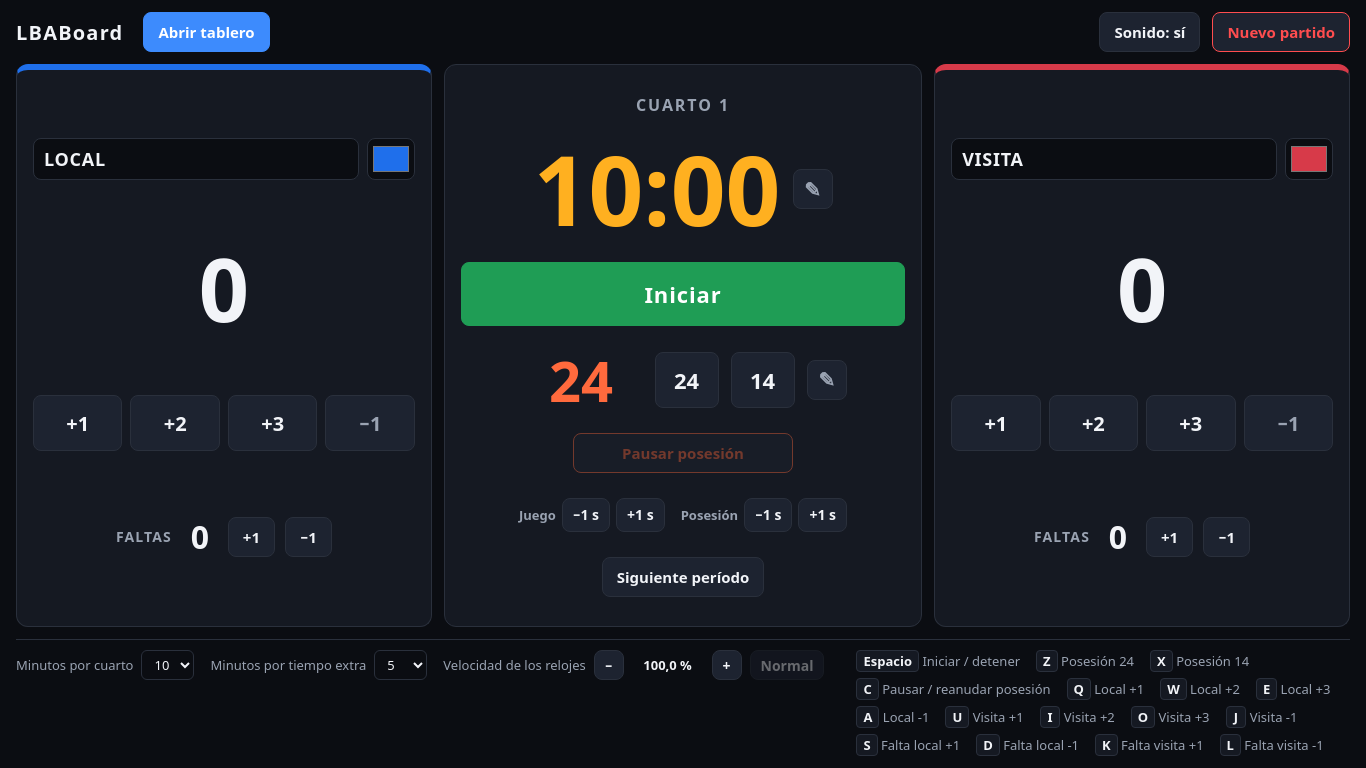
Test: Control › explains the format of a time it cannot read, and Escape cancels
The width and height of the screenshot is (1366, 768).
Click the button named "Editar tiempo de juego" at point(812, 189), box x1=792 y1=169 x2=832 y2=209
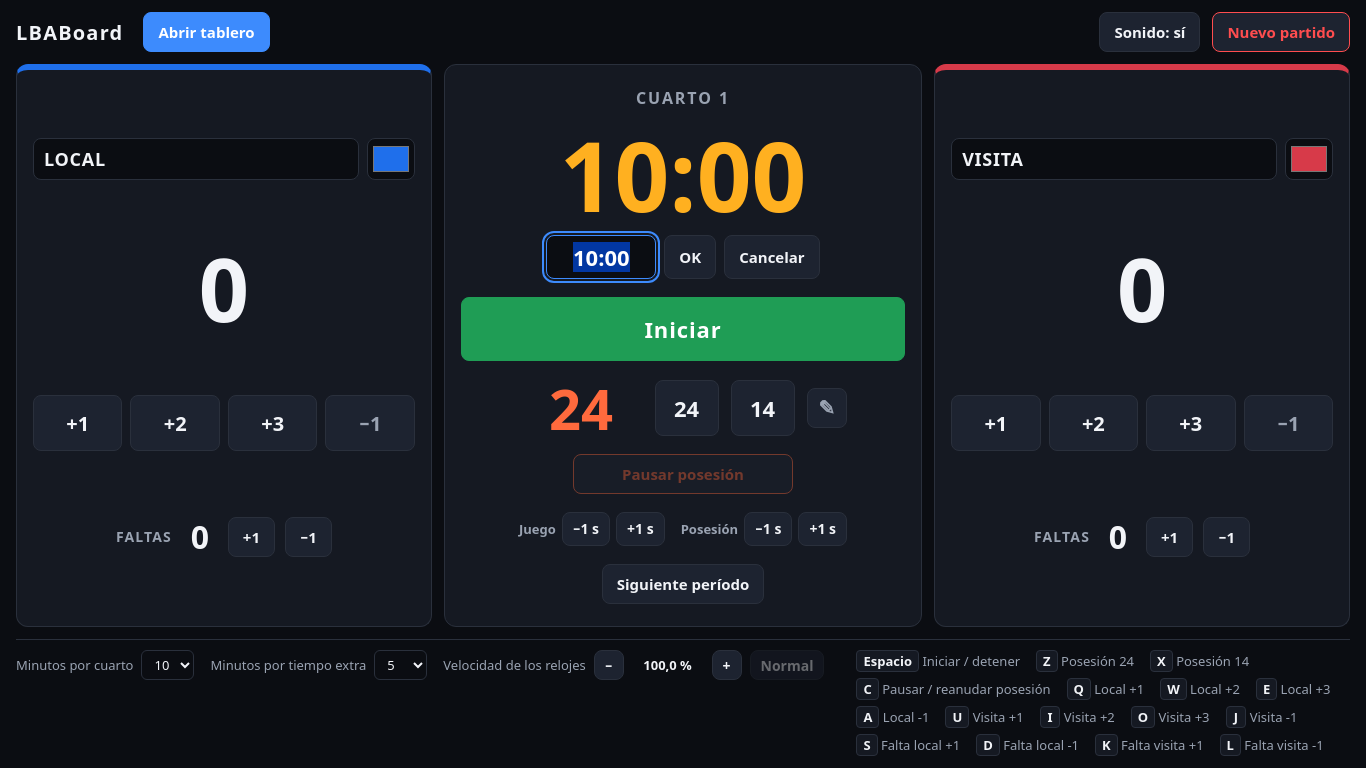
Replace the text in the field named "Valor de tiempo de juego" with "4:75" at point(601, 257), box x1=546 y1=235 x2=656 y2=279
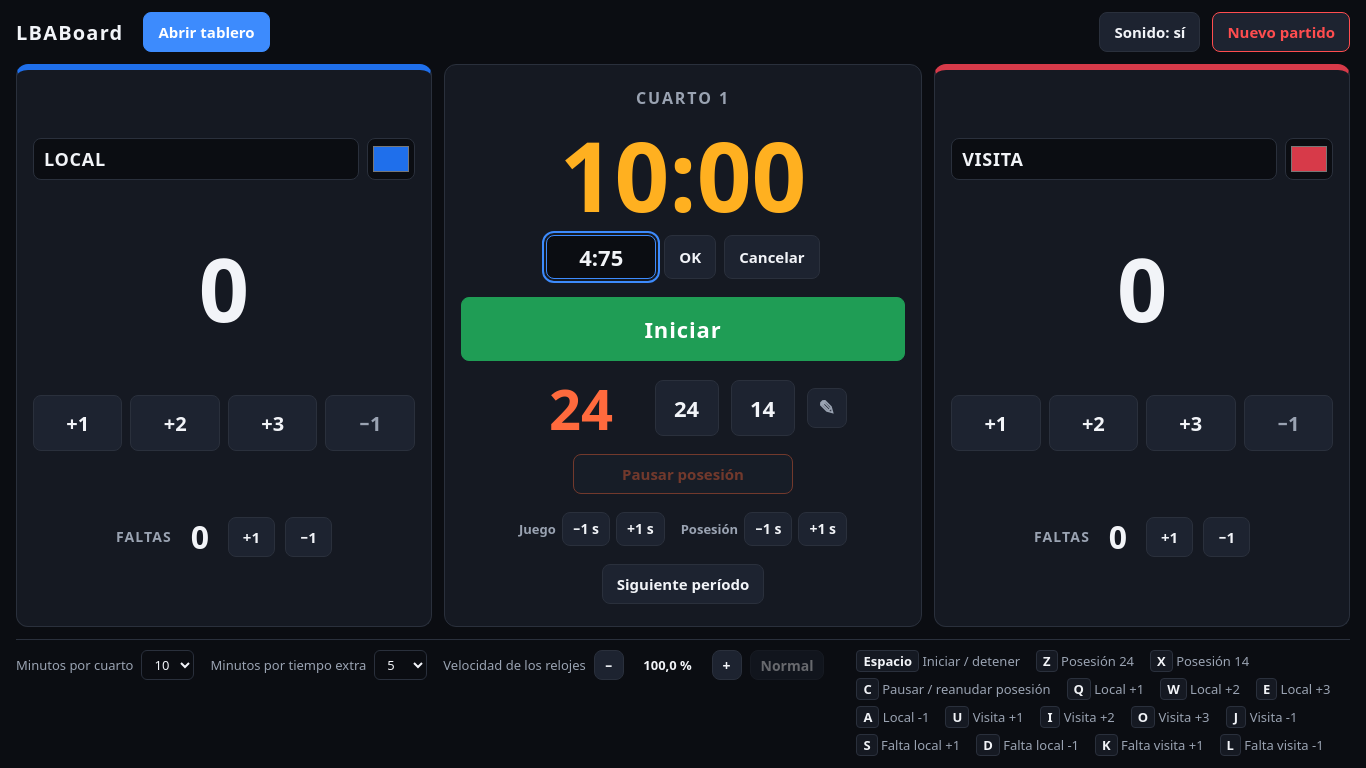
Submit the form from the field named "Valor de tiempo de juego", box x1=546 y1=235 x2=656 y2=279
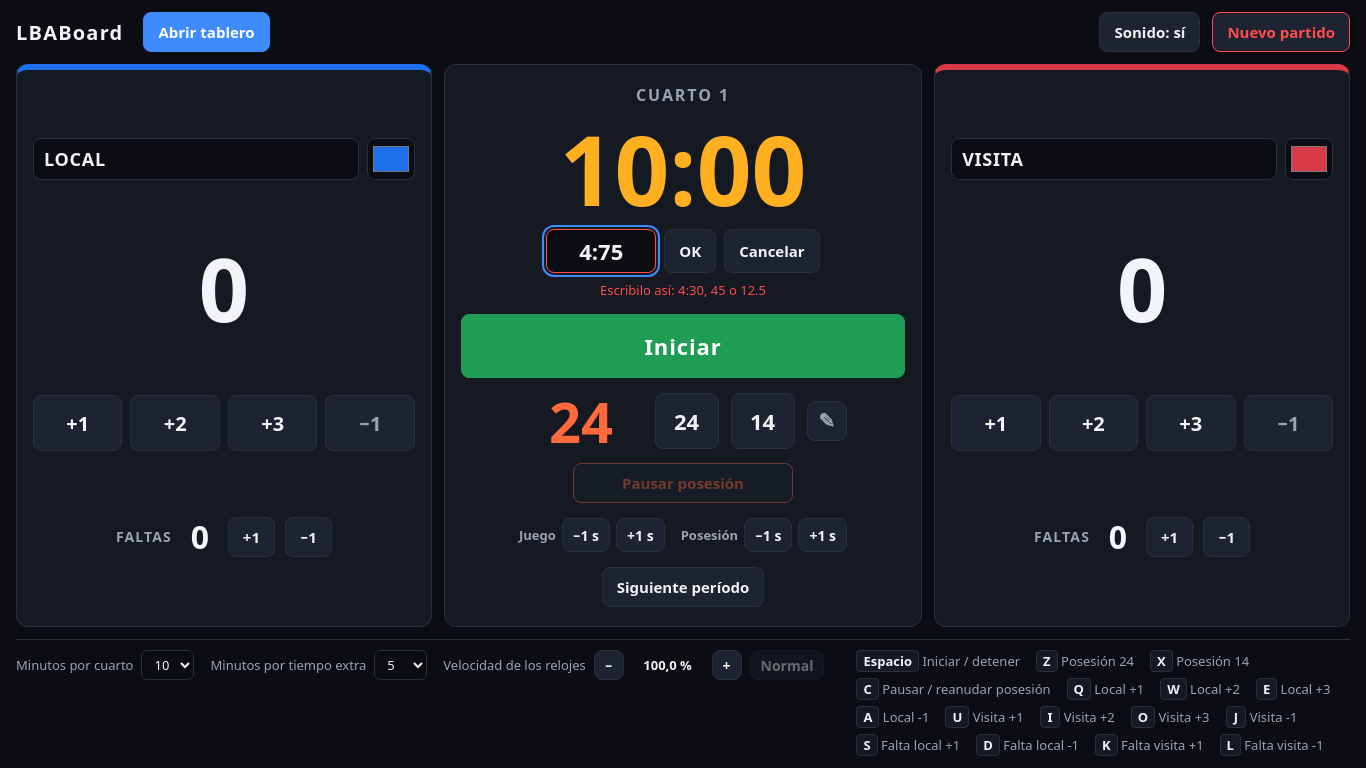
Expected: the text "10:00" is shown, x1=560 y1=121 x2=806 y2=217
Result: the message shows "4:30, 45 o 12.5" at x1=600 y1=281 x2=766 y2=299
Press Escape in the field named "Valor de tiempo de juego", box x1=546 y1=229 x2=656 y2=273
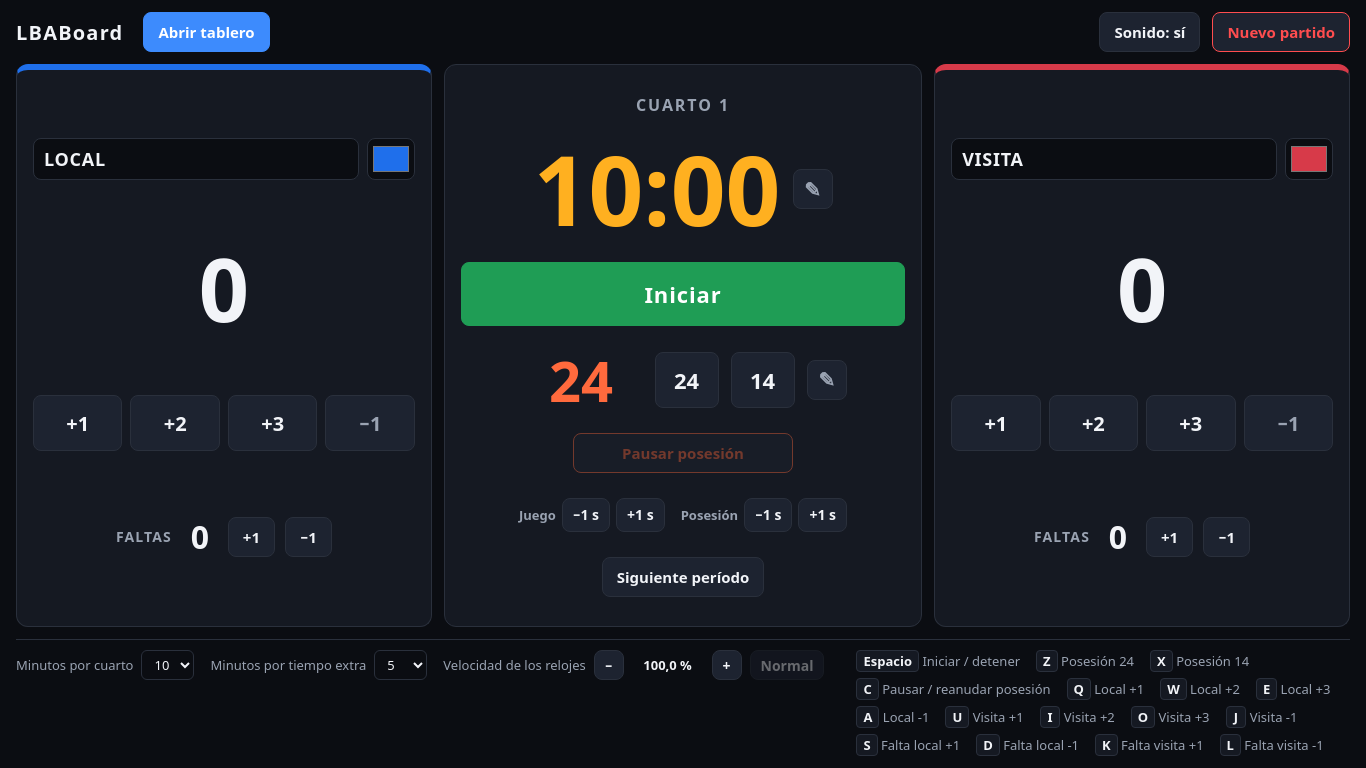
Result: the button named "Editar tiempo de juego" is shown at x1=792 y1=169 x2=832 y2=209
